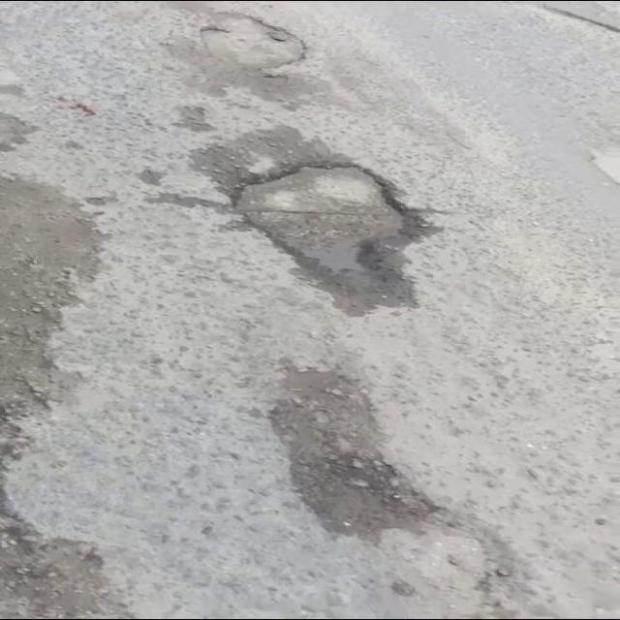lubang: (0, 176, 132, 616), (209, 128, 427, 303), (269, 366, 435, 534), (201, 13, 306, 78)
